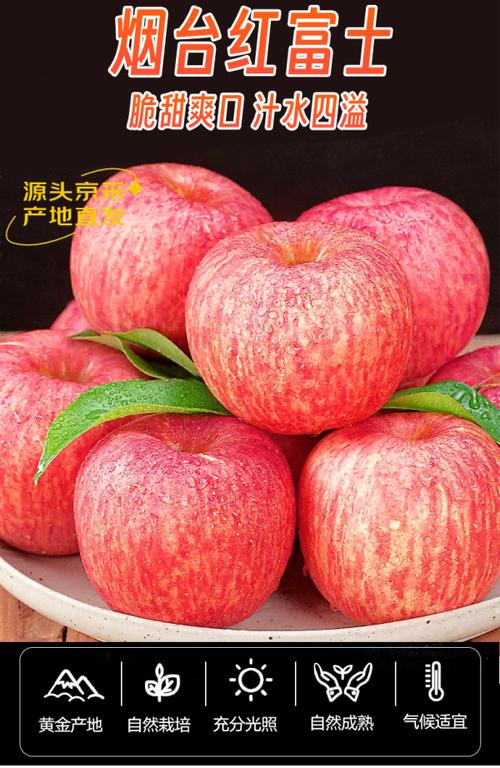ripe: (178, 217, 427, 437), (71, 400, 300, 627), (51, 155, 282, 357), (290, 408, 492, 619), (298, 176, 494, 368), (0, 317, 151, 558)
